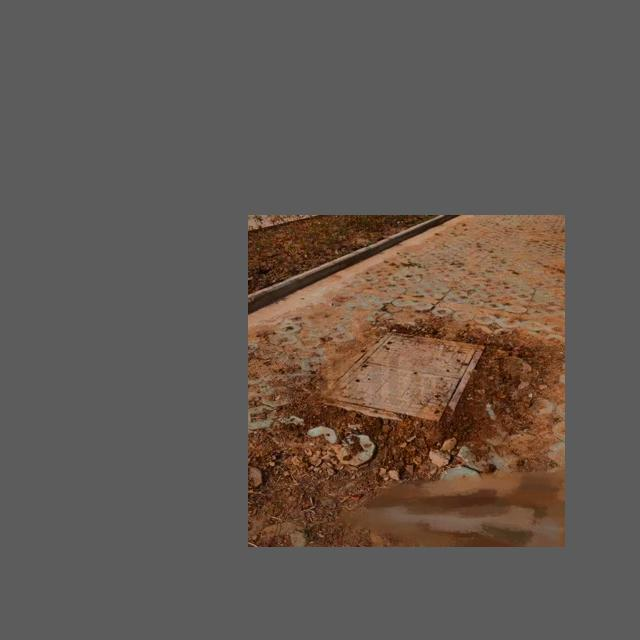circle: (307, 329, 500, 438)
